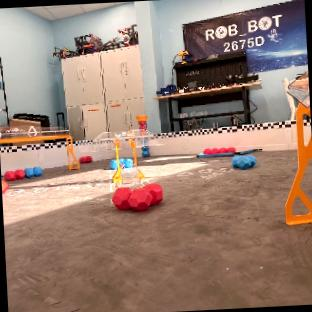V5_BLUE: (231, 154, 255, 169), (23, 167, 42, 177), (140, 138, 149, 157)
V5_RED: (111, 183, 162, 210), (4, 169, 25, 180), (203, 146, 235, 153), (79, 155, 92, 162)
